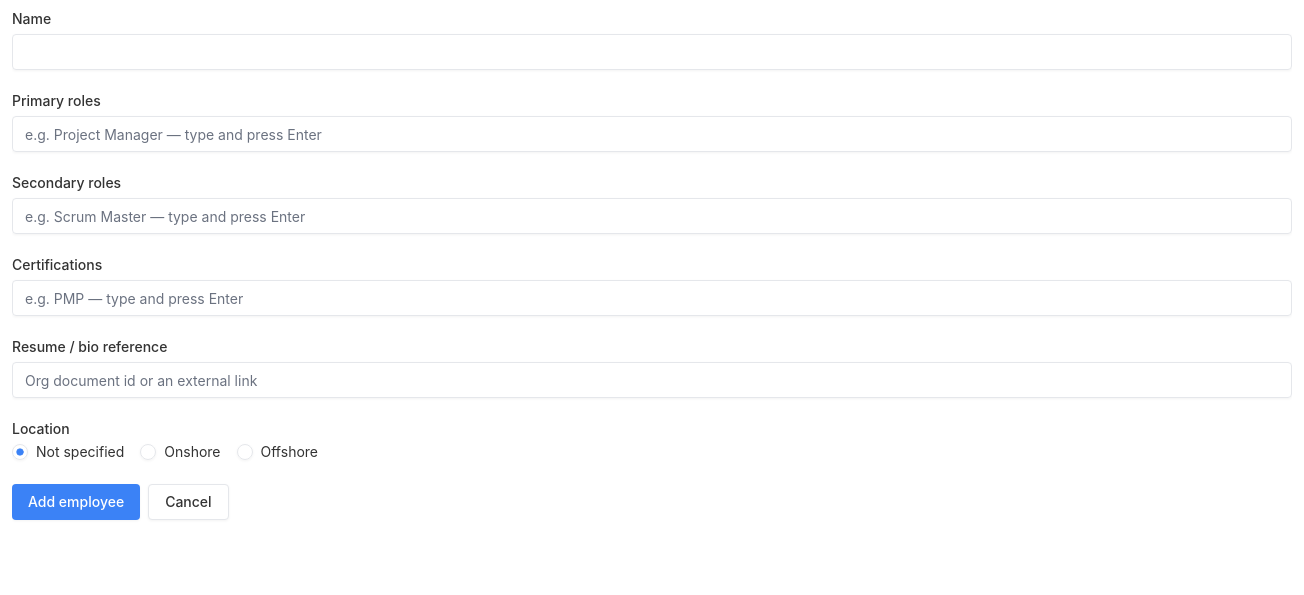
Test: EmployeeForm › shows a field-level error for an empty name and preserves entered data (BR1.1, BR4.3)
Type "Project Manager" into the dropdown labelled "Primary roles". click: point(652, 134)
box: [12,116,1292,152]
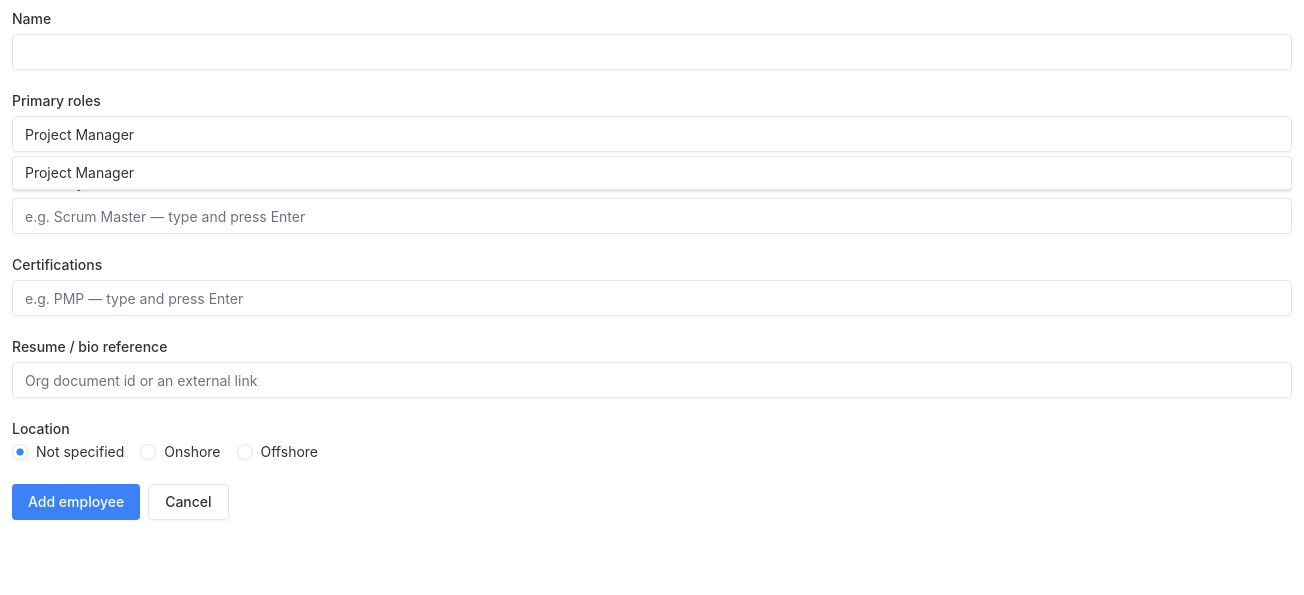
Press Enter in the dropdown labelled "Primary roles", box [12,116,1292,152]
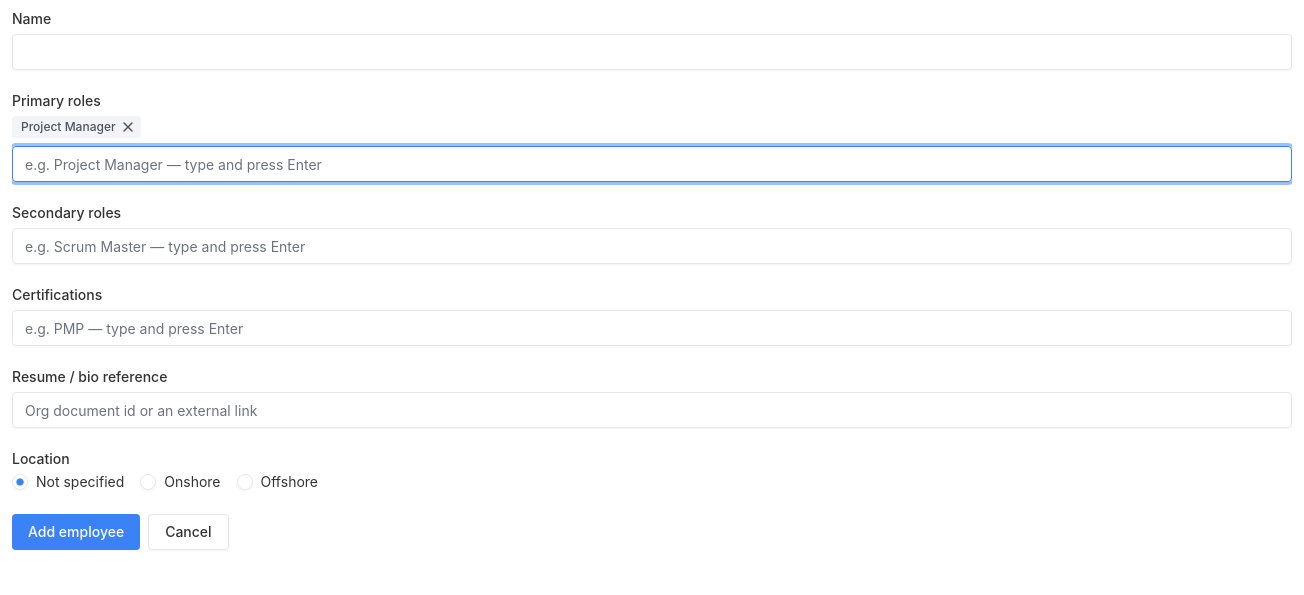
Click the button with test id "employee-form-submit". click: point(76, 532)
box: [12,514,140,550]
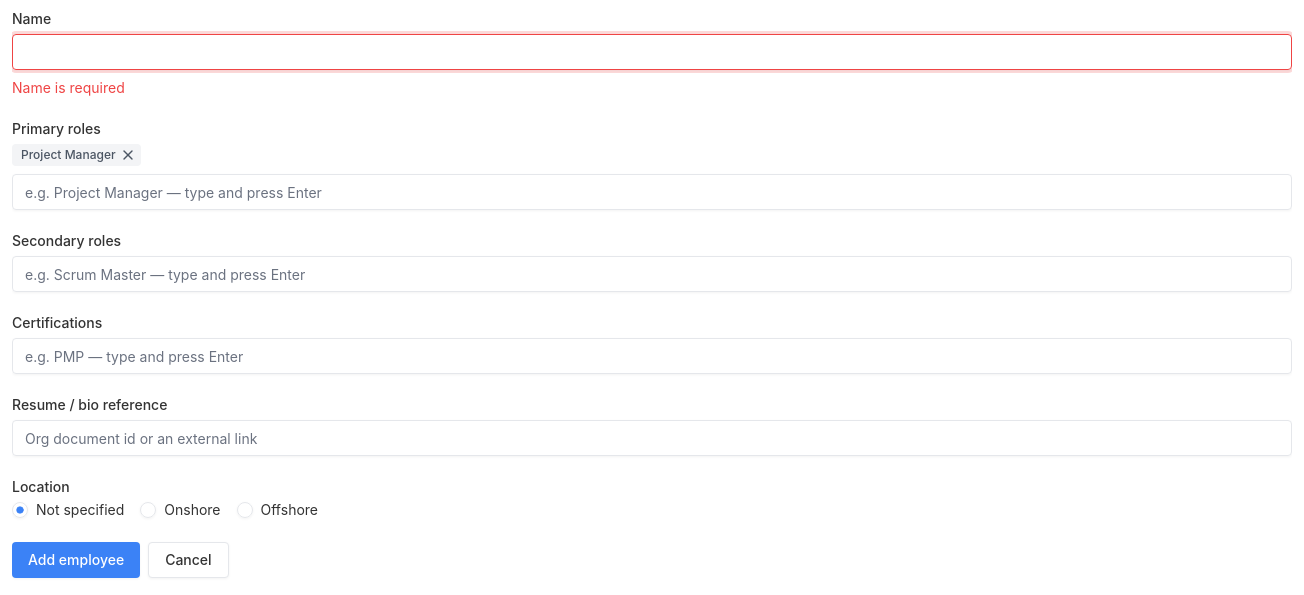
Expected: the text "Project Manager" is shown, [21,147,116,163]
Expected: the message "Name is required" is shown, [12,79,125,96]
